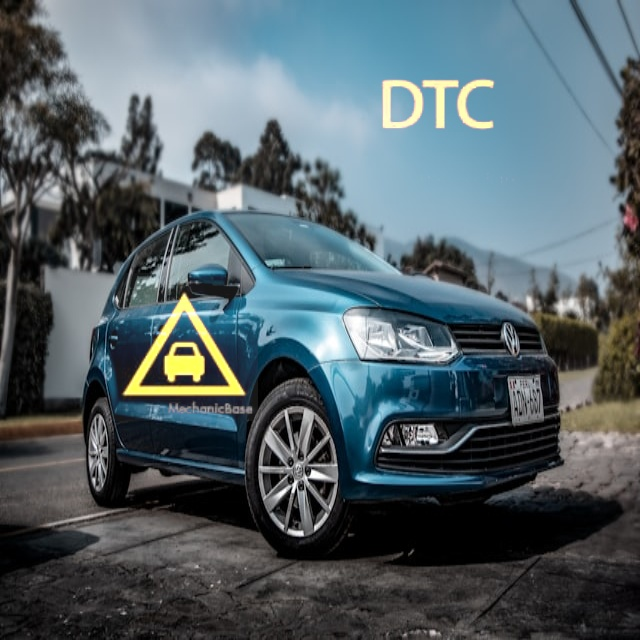symbol: (351, 19, 525, 193), (110, 273, 258, 421)
